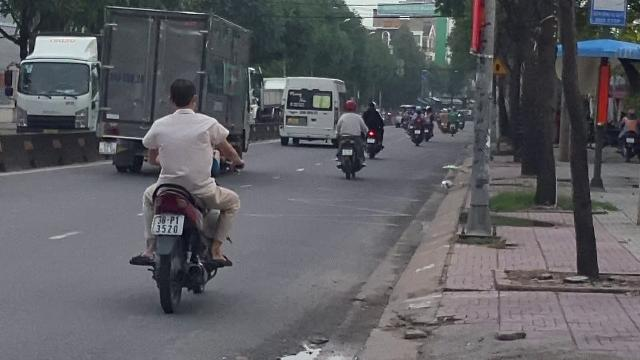licenseplate: (151, 214, 183, 234)
motorcyclist: (129, 77, 243, 309)
nohelmet: (167, 78, 199, 112)
